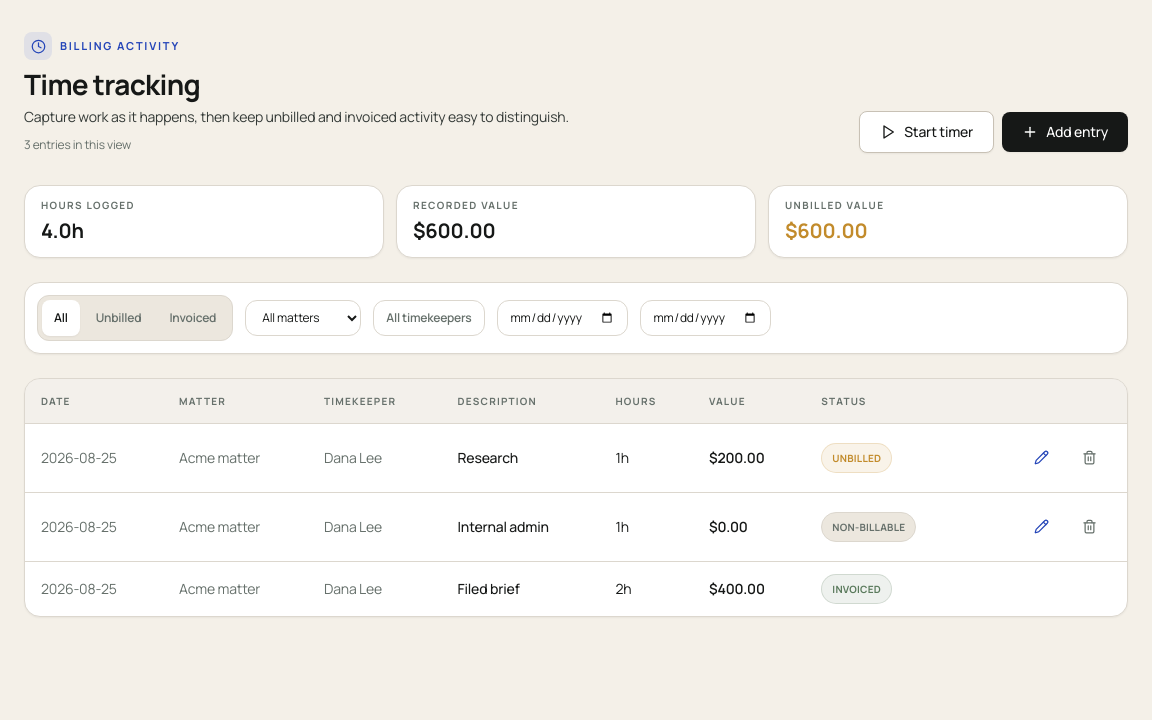
Test: TimeTrackingPage billing controls › rejects something that is not a duration
Click the button "Add entry" at (1065, 132), box [1002,112,1128,152]
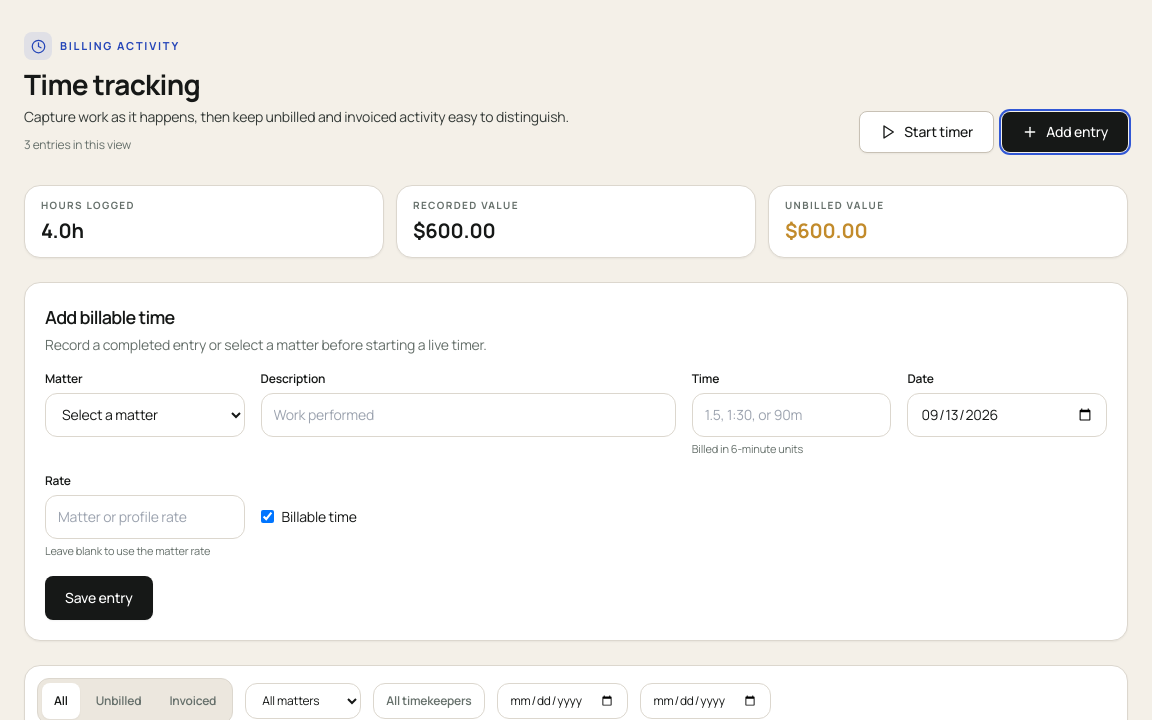
Select "Acme matter" in the dropdown labelled "Matter" at (145, 415), box [45,393,245,437]
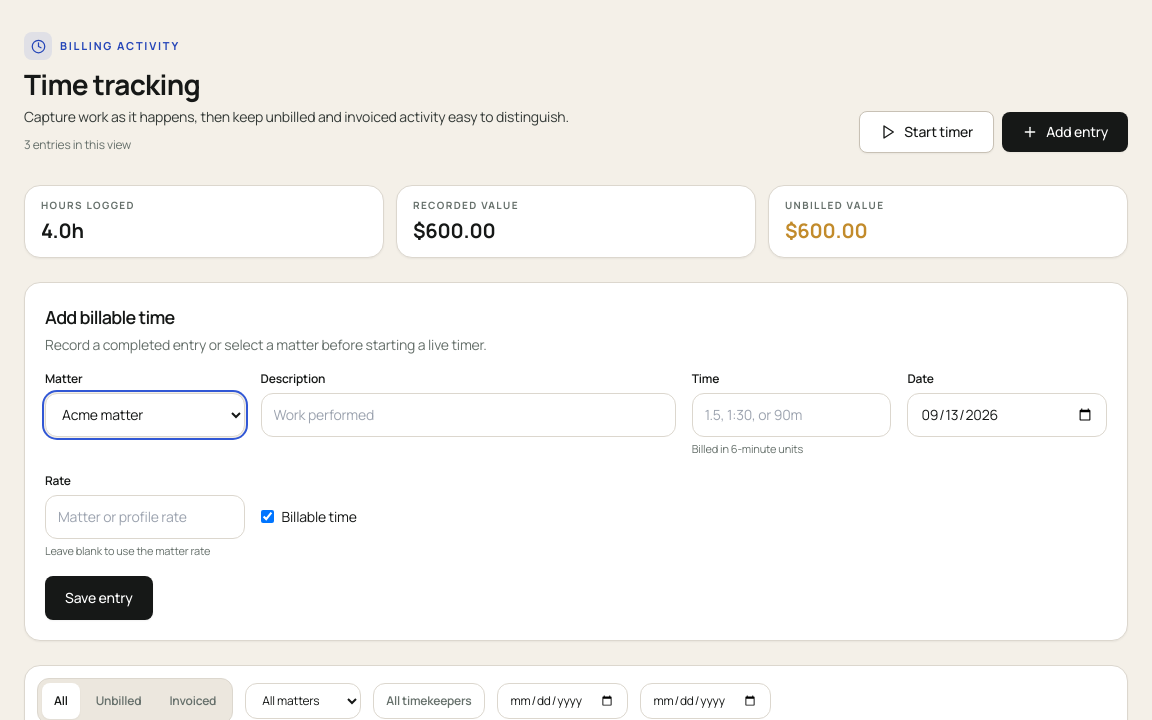
Type "Drafted motion" into the field labelled "Description" at (468, 415), box [261,393,676,437]
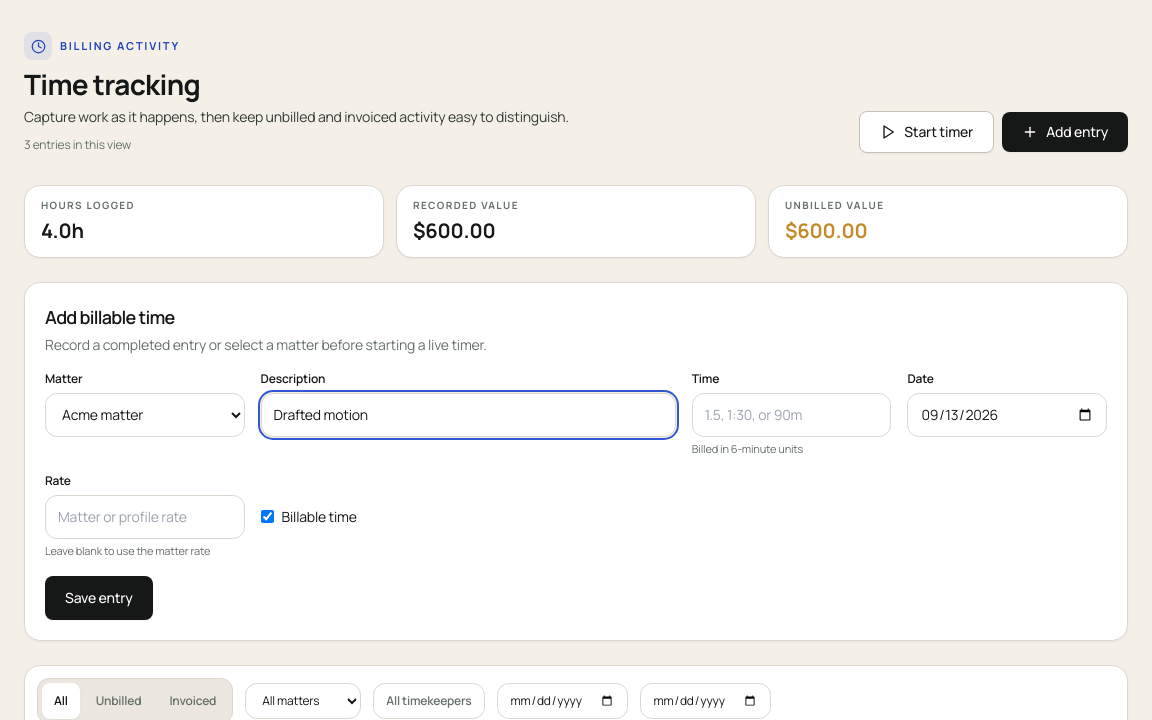
Type "a while" into the field labelled "Time" at (792, 415), box [692,393,891,437]
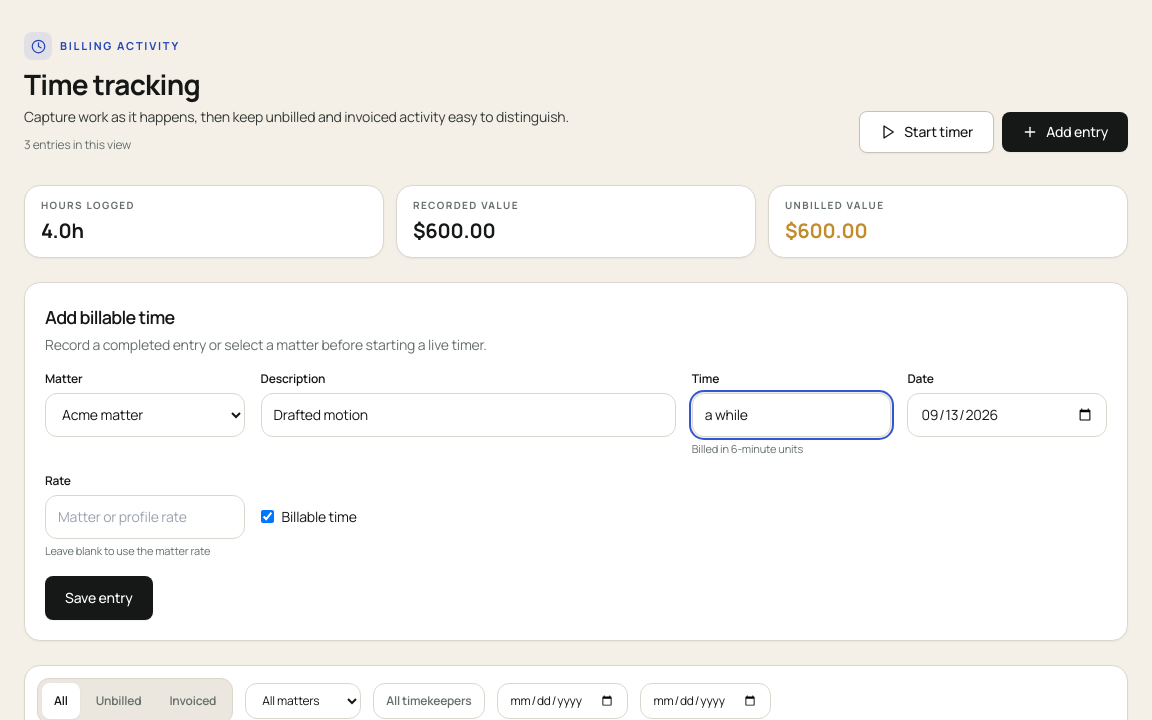
Click the button "Save entry" at (99, 598), box [45,576,152,620]
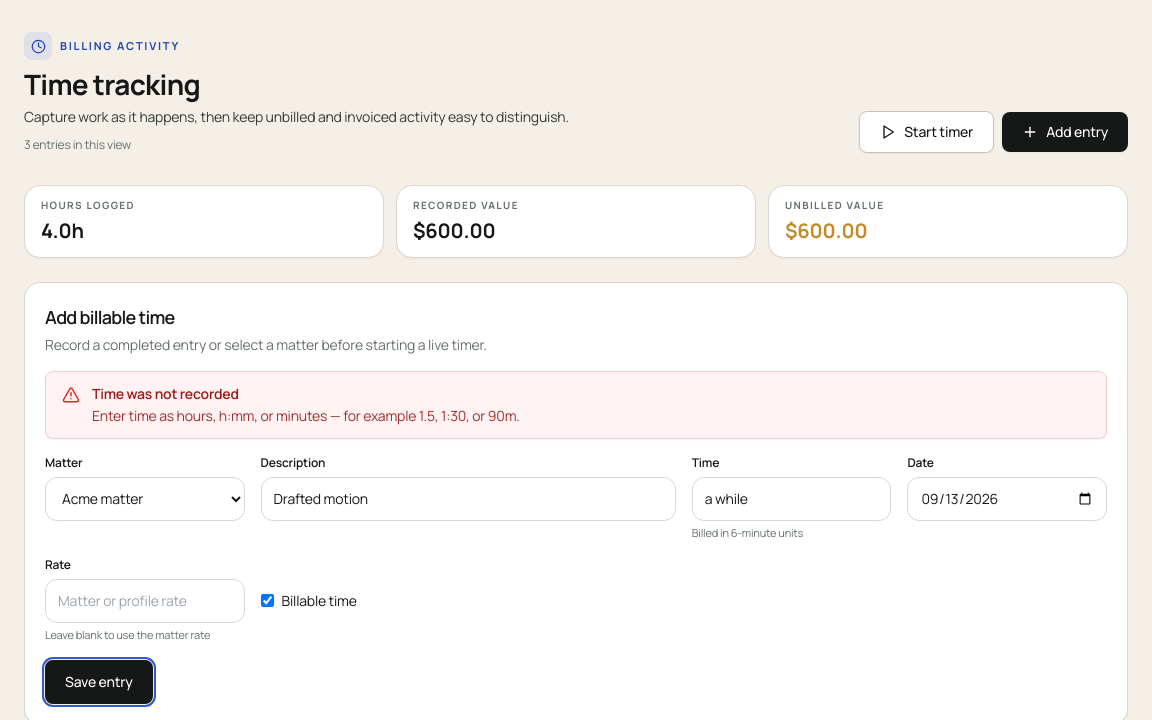
Check: the text "Enter time as hours" is shown, box [92,406,520,425]
